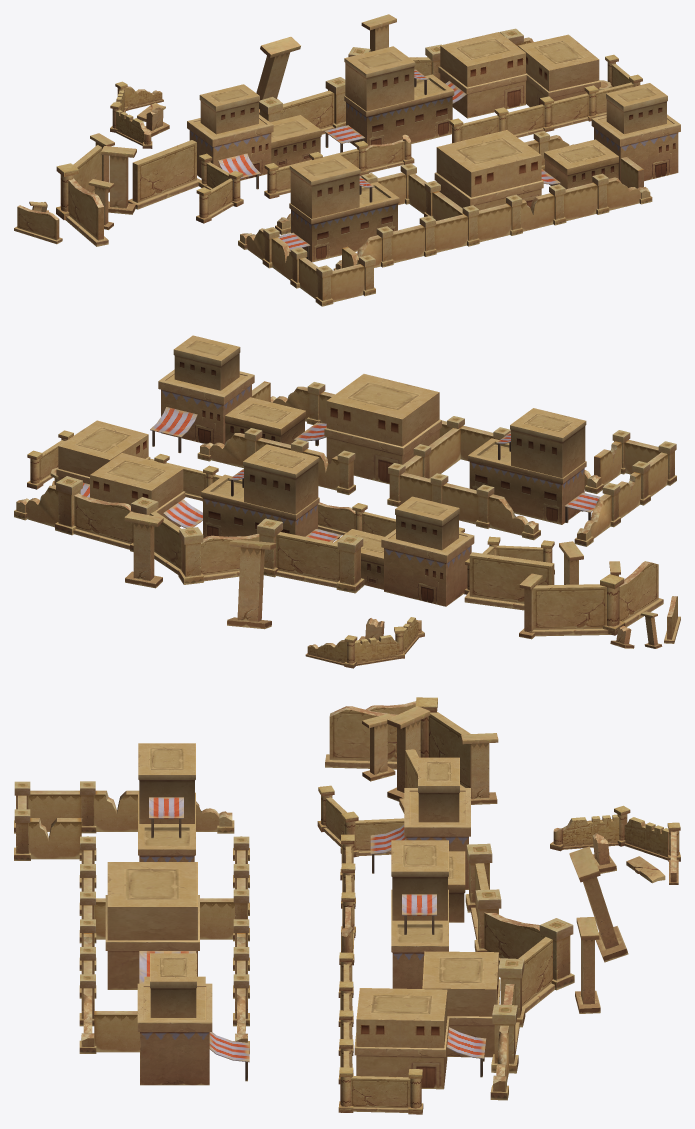
File: qiangmian_03.fbx
The picture shows the model from 3 angles, top to bottom: view 1: azimuth 30°, elevation 25°; view 2: azimuth 150°, elevation 25°; view 3: azimuth 270°, elevation 25°; orthographic projection. The views are drawn at different scales.
Visible parts, largest first — view 1: qiangmian_03; view 2: qiangmian_03; view 3: qiangmian_03.
Boxes of the visible parts, x1=… form: qiangmian_03: x1=14, y1=14, x2=680, y2=306; qiangmian_03: x1=14, y1=335, x2=680, y2=668; qiangmian_03: x1=14, y1=697, x2=680, y2=1114.
Size of the model in its own units: 9921 by 1486 by 7275.
Materials: 1 (1 with a texture image).
